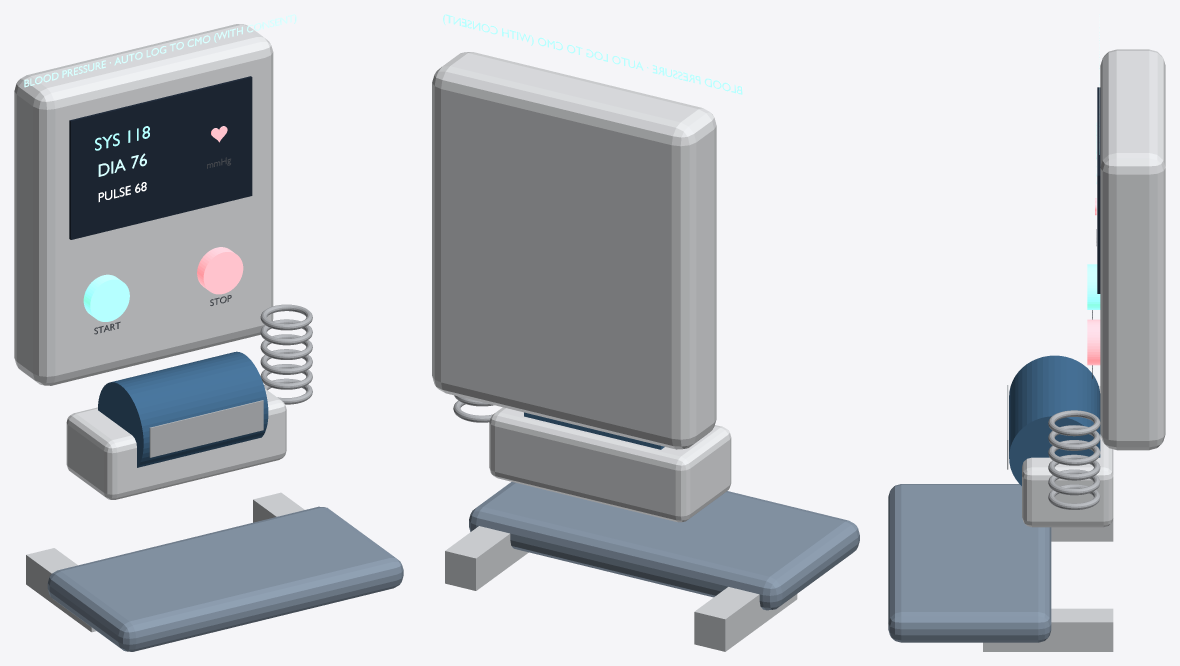
Rendered from bp_monitor.glb.
3 views of the same model, side by side, from view 1: azimuth 30°, elevation 25°; view 2: azimuth 150°, elevation 25°; view 3: azimuth 270°, elevation 25° (orthographic). The views are drawn at different scales.
Visible parts, largest first — view 1: Arm_Rest, Start_Button, Torus (×5), BP_Label; view 2: Arm_Rest, BP_Label; view 3: Arm_Rest, Torus (×6), Start_Button.
Part boxes in pixels (left/top/right/bottom): Arm_Rest: left=14, top=24, right=403, bottom=651; Start_Button: left=83, top=126, right=243, bottom=321; Torus (×5): left=260, top=304, right=312, bottom=389; BP_Label: left=24, top=14, right=296, bottom=176; Arm_Rest: left=432, top=52, right=859, bottom=651; BP_Label: left=443, top=14, right=742, bottom=94; Arm_Rest: left=888, top=49, right=1165, bottom=651; Torus (×6): left=1048, top=410, right=1100, bottom=509; Start_Button: left=1087, top=123, right=1100, bottom=365.
Bounding box in the file's own units: 0.5 × 0.8621 × 0.425.
5 materials, 5 textured.
